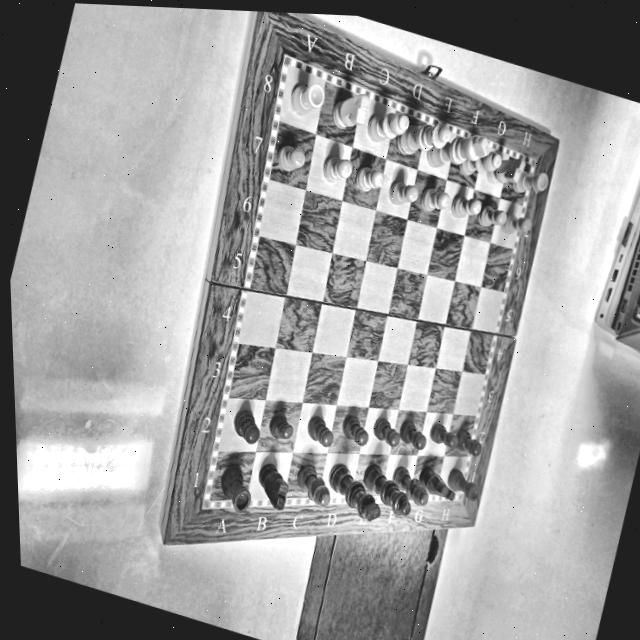black-bishop: (290, 462, 338, 509), (387, 465, 434, 507)
black-king: (320, 460, 388, 529)
black-knight: (251, 456, 296, 513), (414, 466, 462, 506)
black-pawn: (298, 408, 342, 452), (225, 405, 266, 447), (263, 405, 299, 450), (422, 419, 461, 457), (336, 413, 374, 447), (450, 424, 485, 460), (367, 414, 404, 448), (397, 420, 430, 451)
black-queen: (354, 459, 419, 517)
black-rook: (215, 464, 259, 513), (443, 467, 486, 503)
white-bishop: (361, 99, 413, 156), (455, 139, 506, 187)
white-king: (422, 119, 496, 182)
white-knight: (324, 84, 377, 142), (481, 144, 530, 193)
white-pawn: (383, 167, 423, 215), (351, 159, 388, 199), (417, 181, 455, 219), (448, 189, 487, 226), (474, 197, 509, 238), (273, 138, 308, 177), (498, 206, 533, 245), (322, 152, 353, 186)
white-queen: (393, 111, 454, 166)
white-rook: (283, 70, 336, 127), (510, 157, 555, 203)
